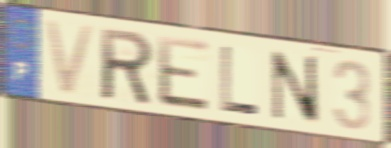3: (331, 58, 372, 132)
E: (155, 32, 212, 115)
L: (218, 43, 260, 119)
N: (269, 48, 322, 128)
R: (98, 25, 155, 108)
V: (41, 17, 99, 100)
